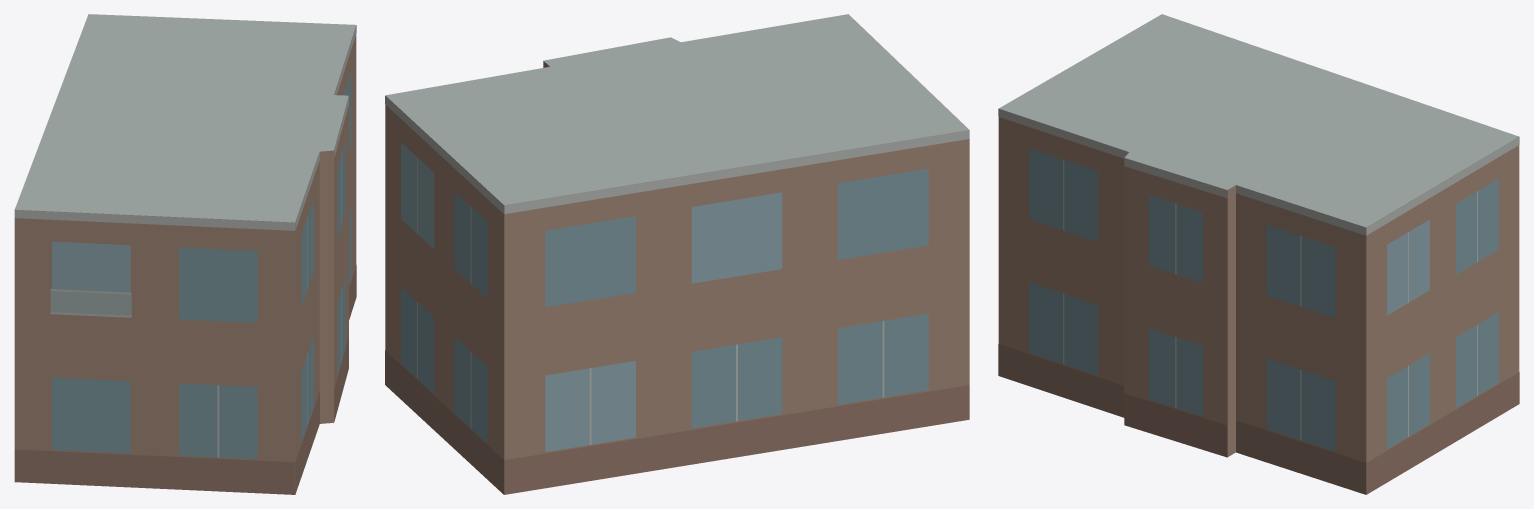
The model's file is survey-upis-32962646.glb.
The picture shows the model from 3 angles, left to right: view 1: azimuth 30°, elevation 25°; view 2: azimuth 150°, elevation 25°; view 3: azimuth 270°, elevation 25°; orthographic projection. The views are drawn at different scales.
Visible parts, largest first — view 1: survey-upis-32962646.tmp; view 2: survey-upis-32962646.tmp; view 3: survey-upis-32962646.tmp.
Boxes of the visible parts, x1=… form: survey-upis-32962646.tmp: x1=14, y1=14, x2=356, y2=494; survey-upis-32962646.tmp: x1=385, y1=14, x2=969, y2=494; survey-upis-32962646.tmp: x1=998, y1=14, x2=1519, y2=494.
Bounding box in the file's own units: 13.54 × 7.9 × 13.96.
